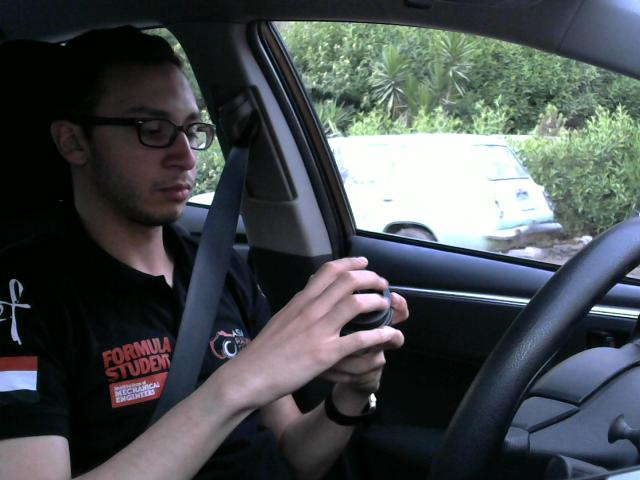Drinking: (0, 350, 43, 399)
